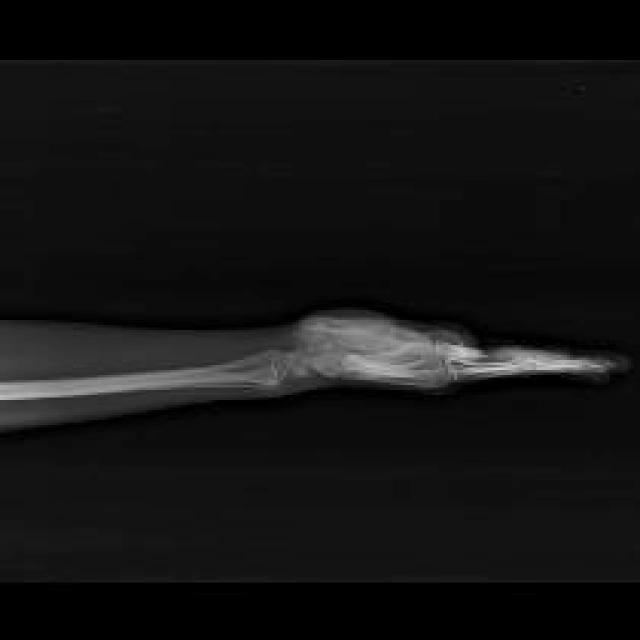normal: (0, 310, 629, 401)
